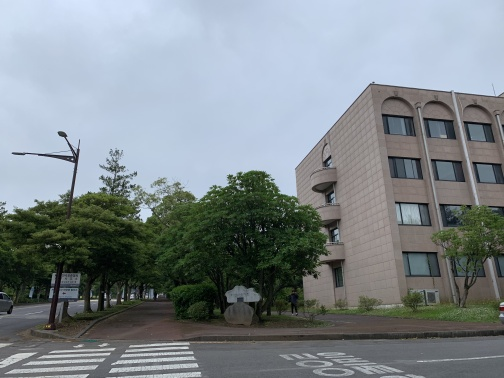Natural Science2: (292, 76, 504, 315)
